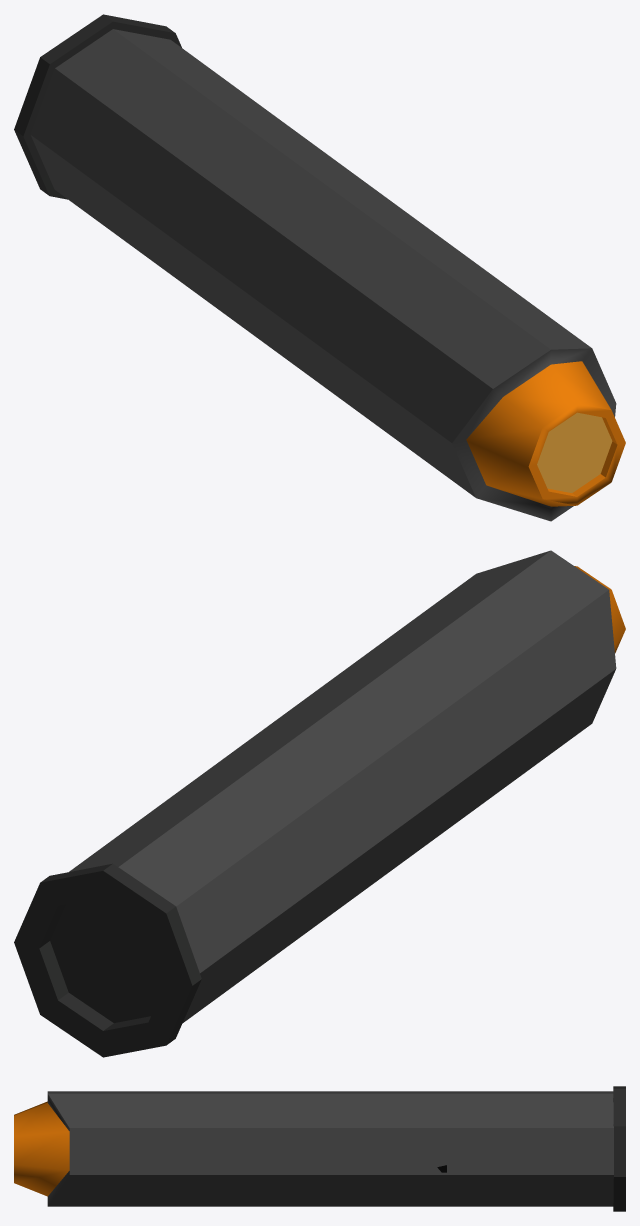
Rendered from EpiPen.fbx.
3 renders of one model, top to bottom at view 1: azimuth 30°, elevation 25°; view 2: azimuth 150°, elevation 25°; view 3: azimuth 270°, elevation 25°, orthographic. The views are drawn at different scales.
Visible parts, largest first — view 1: Cylinder; view 2: Cylinder; view 3: Cylinder.
Part boxes in pixels (left/top/right/bottom): Cylinder: left=14, top=14, right=625, bottom=521; Cylinder: left=14, top=550, right=625, bottom=1057; Cylinder: left=14, top=1086, right=625, bottom=1211.
Size of the model in its own units: 167 by 167 by 766.
